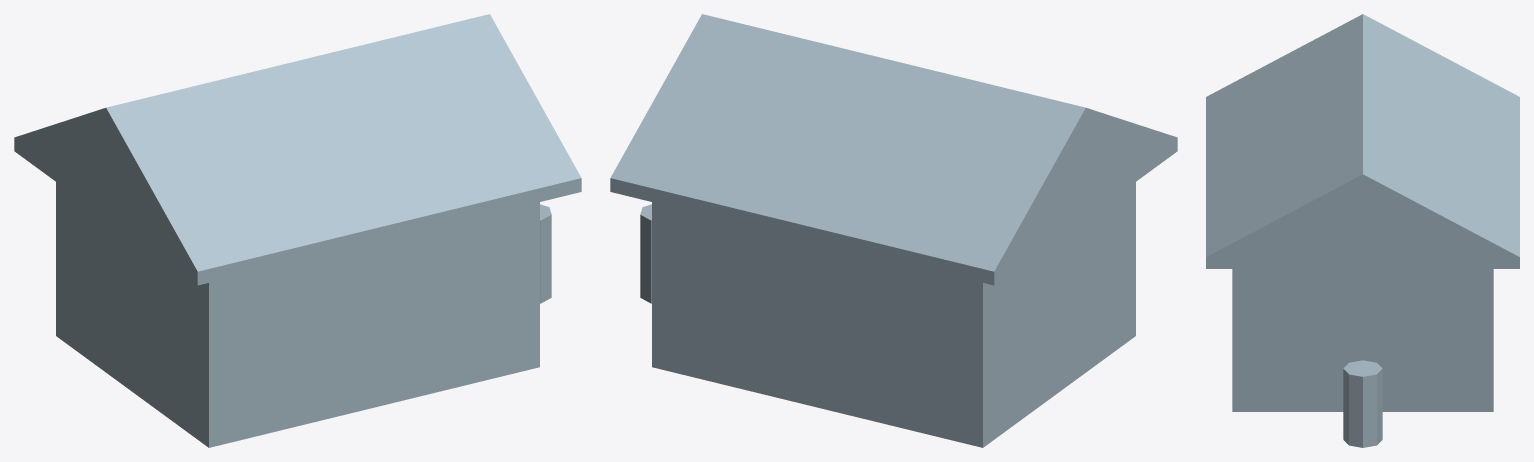
File: bo_spring_source_hut.fbx
3 views of the same model, side by side, from view 1: azimuth 30°, elevation 25°; view 2: azimuth 150°, elevation 25°; view 3: azimuth 270°, elevation 25° (orthographic). The views are drawn at different scales.
Parts seen in each view (by area): view 1: bo_spring_source_hut; view 2: bo_spring_source_hut; view 3: bo_spring_source_hut.
Boxes of the visible parts, <box> form: bo_spring_source_hut: <box>14,14,581,447</box>; bo_spring_source_hut: <box>610,14,1177,447</box>; bo_spring_source_hut: <box>1206,14,1519,447</box>.
Bounding box in the file's own units: 6.7 × 4.2 × 4.8.
1 material, 1 textured.
